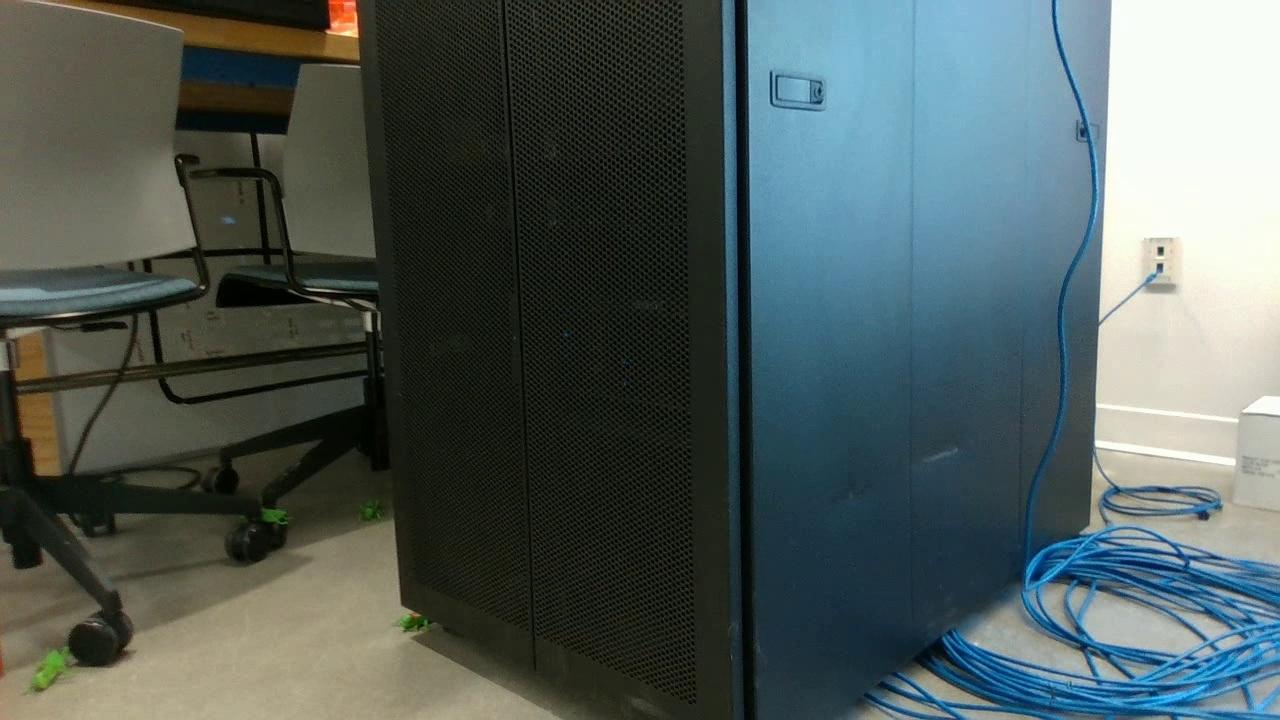grasshopper: (23, 648, 71, 693), (392, 609, 425, 633), (237, 509, 288, 523), (356, 499, 383, 522)
